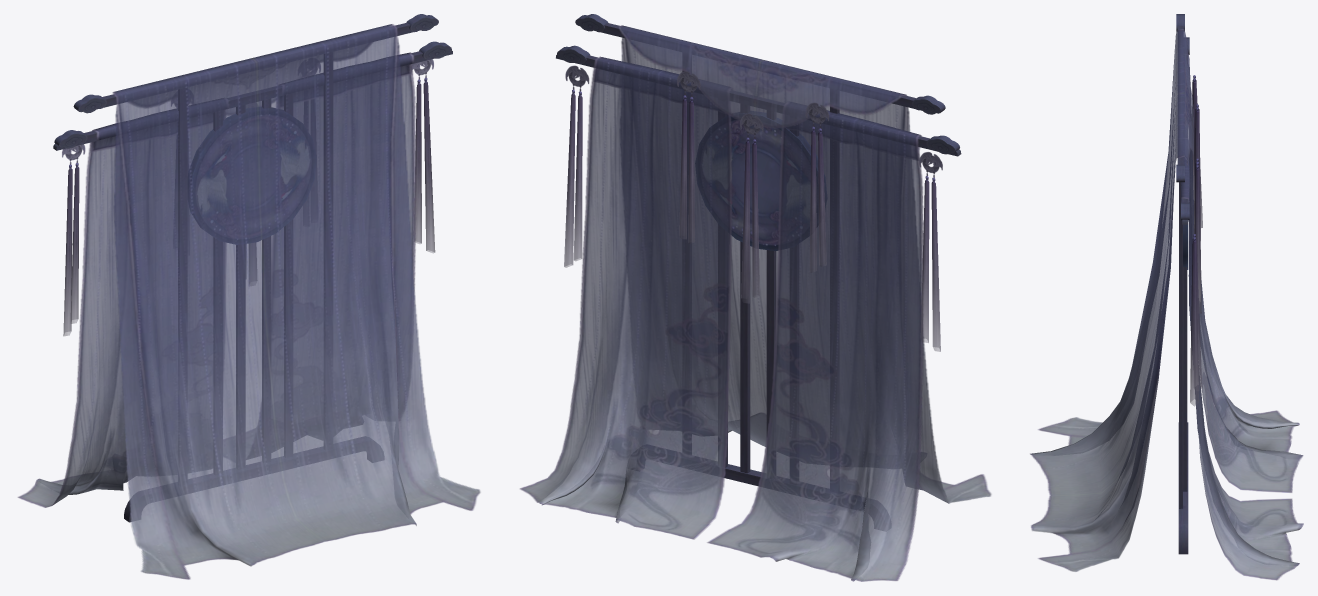
Rendered from furniture-20789.glb.
3 views of the same model, side by side, from view 1: azimuth 30°, elevation 25°; view 2: azimuth 150°, elevation 25°; view 3: azimuth 270°, elevation 25° (orthographic). The views are drawn at different scales.
Size of the model in its own units: 3.13 by 3.28 by 2.03.
1 material, 1 textured.
